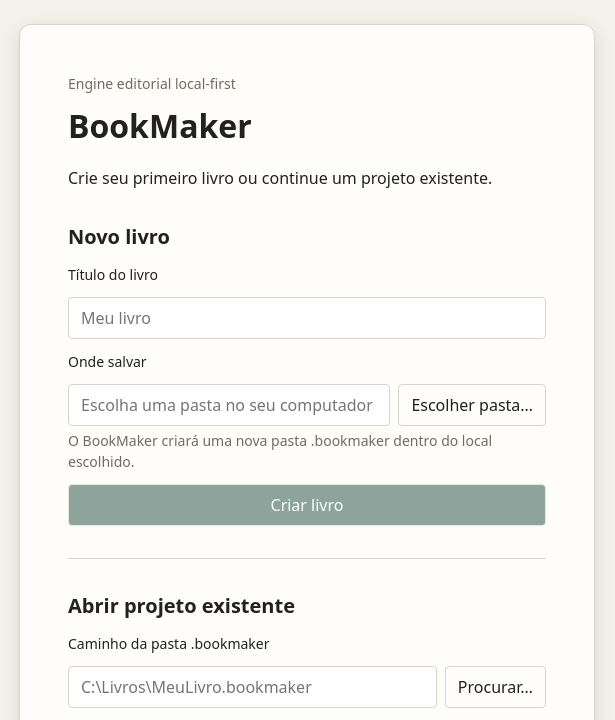
Test: App › opens a real project from its local path
The image size is (615, 720).
Type "C:/Livros/Teste.bookmaker" into the field labelled "Caminho da pasta .bookmaker" at (252, 687), box [68, 666, 437, 708]
(page scrolled)
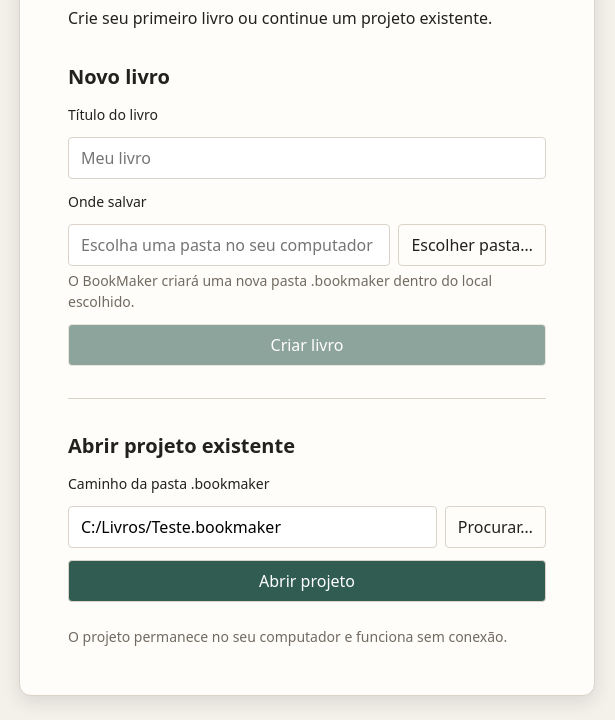
Click the button "Abrir projeto" at (307, 581), box [68, 560, 546, 602]
(page scrolled)
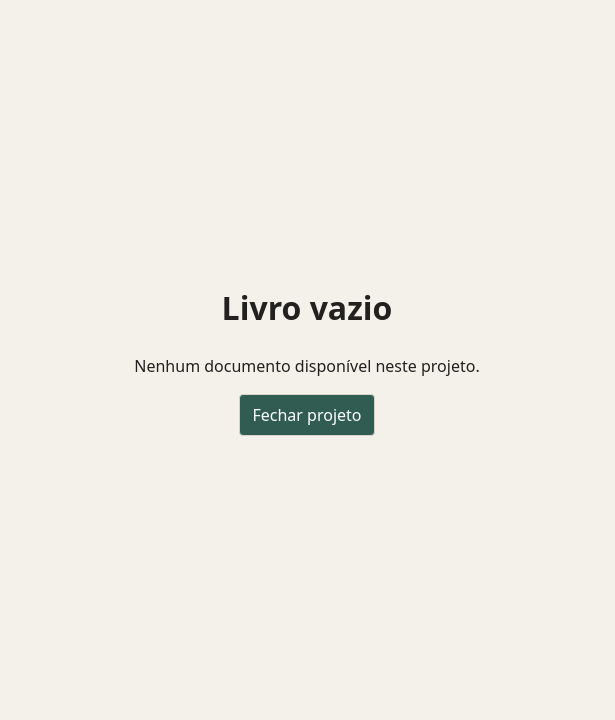
Check: the heading "Livro vazio" is shown, box [222, 284, 392, 332]
Check: the text "Nenhum documento disponível neste projeto." is shown, box [134, 354, 480, 378]
